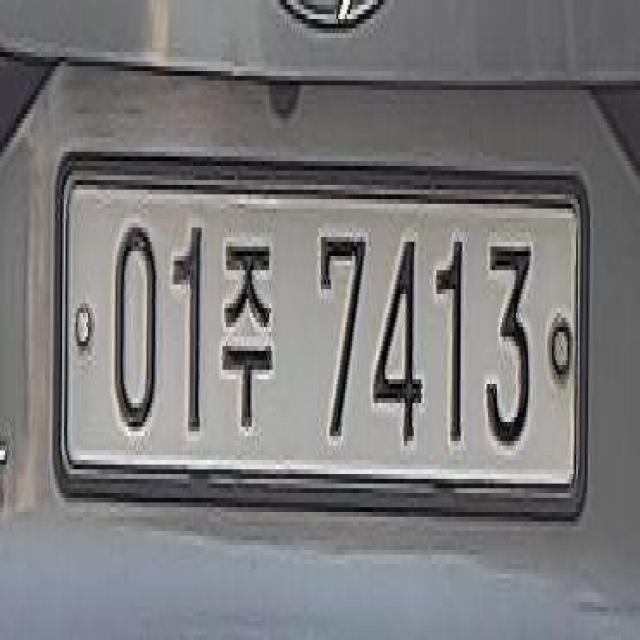illegal_plate: (57, 147, 595, 538)
